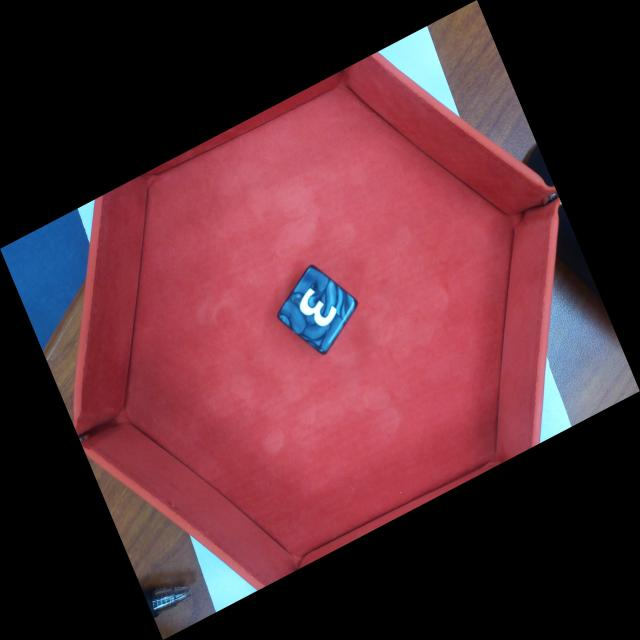dice: (276, 264, 359, 356)
